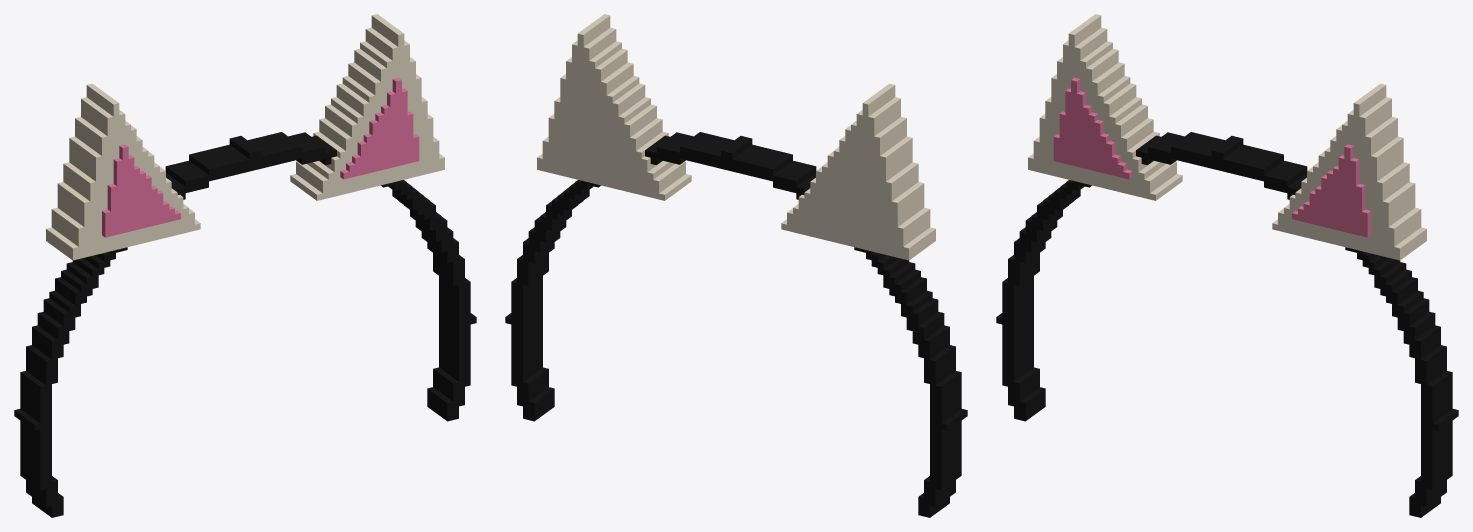
Rendered from faux_fur_cat_ears.glb.
3 views of the same model, side by side, from view 1: azimuth 30°, elevation 25°; view 2: azimuth 150°, elevation 25°; view 3: azimuth 330°, elevation 25° (orthographic).
Visible parts, largest first — view 1: faux_fur_cat_ears:compound; view 2: faux_fur_cat_ears:compound; view 3: faux_fur_cat_ears:compound.
Part boxes in pixels (bbox=[...]): faux_fur_cat_ears:compound: bbox=[14, 14, 476, 517]; faux_fur_cat_ears:compound: bbox=[505, 14, 967, 517]; faux_fur_cat_ears:compound: bbox=[996, 14, 1458, 517].
Size of the model in its own units: 0.152 by 0.132 by 0.018.
